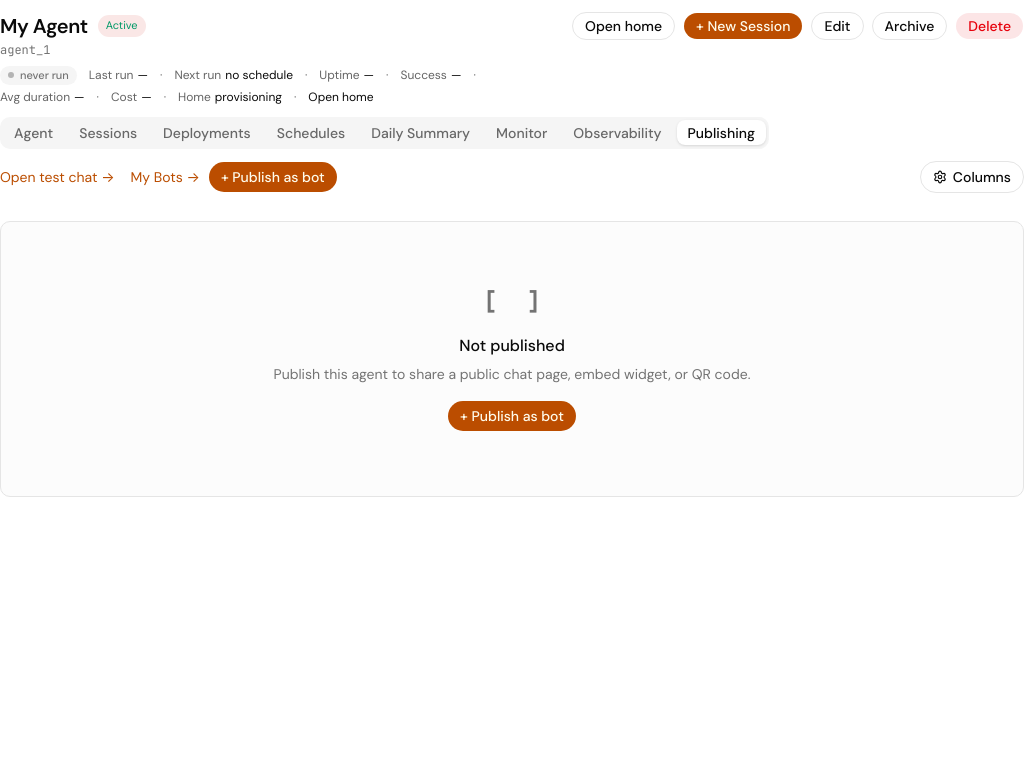
Test: <AgentPublishingTab /> › shows an inline slug error on a 409 conflict and keeps the dialog open
Expected: the text "Not published" is shown, [459,335,565,356]
Click the button "+ Publish as bot" next to "My Bots →" at point(273, 177), box [208,161,338,193]
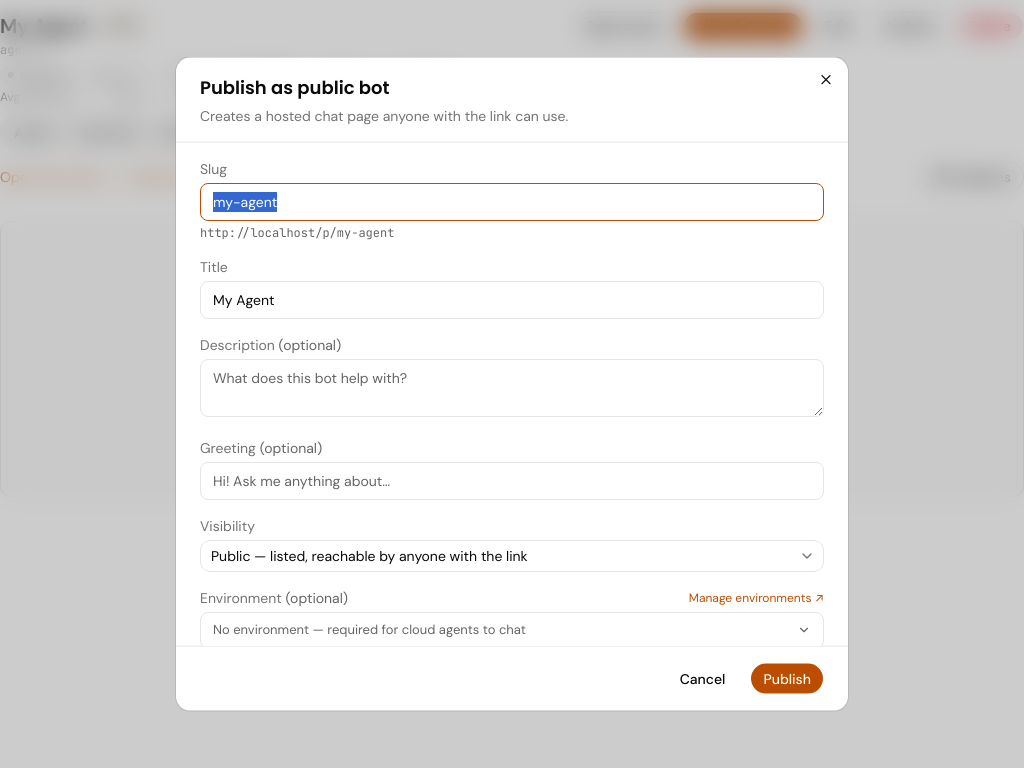
Result: the heading "Publish as public bot" is shown at [200,75,390,100]
Click the button "Publish" at point(787, 678), box [750,662,824,694]
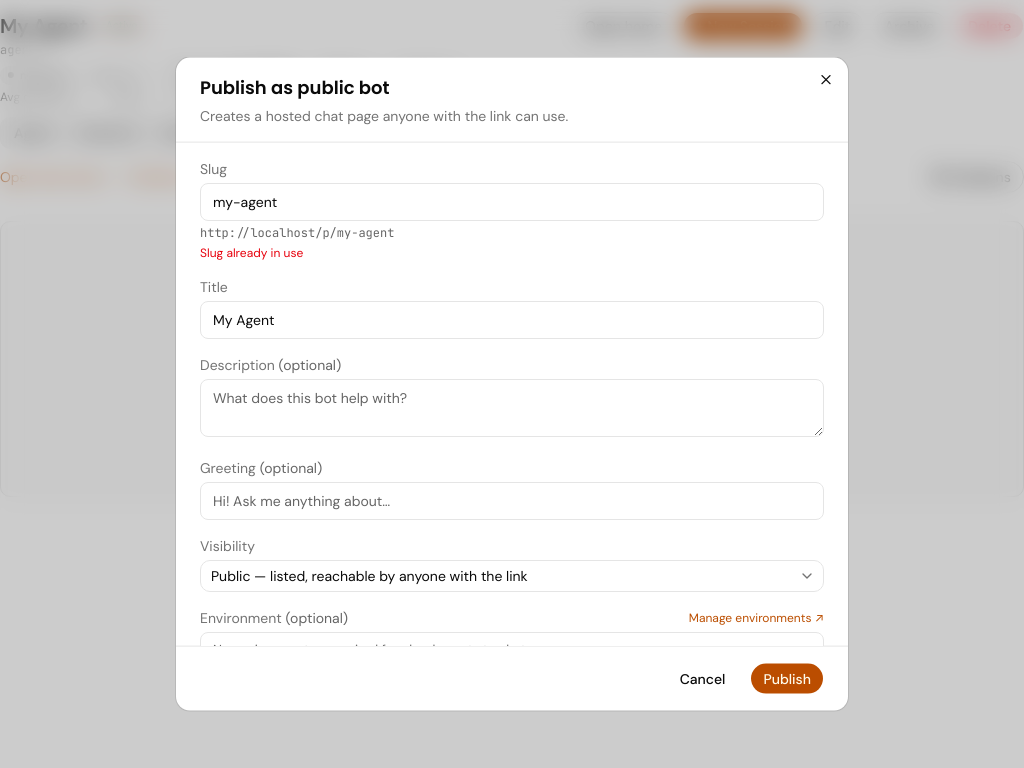
Result: the heading "Publish as public bot" is shown at [200,75,390,100]
Result: the text "Slug already in use" is shown at [200,245,303,261]
